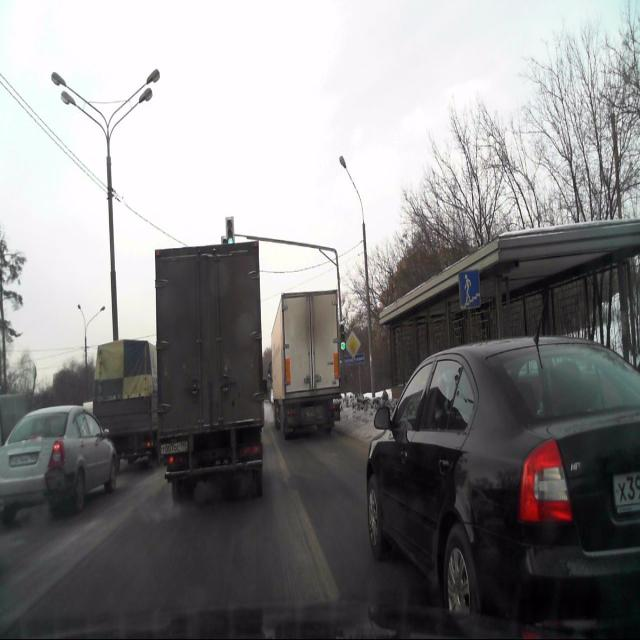road sign: (458, 270, 480, 309), (344, 332, 360, 360)
